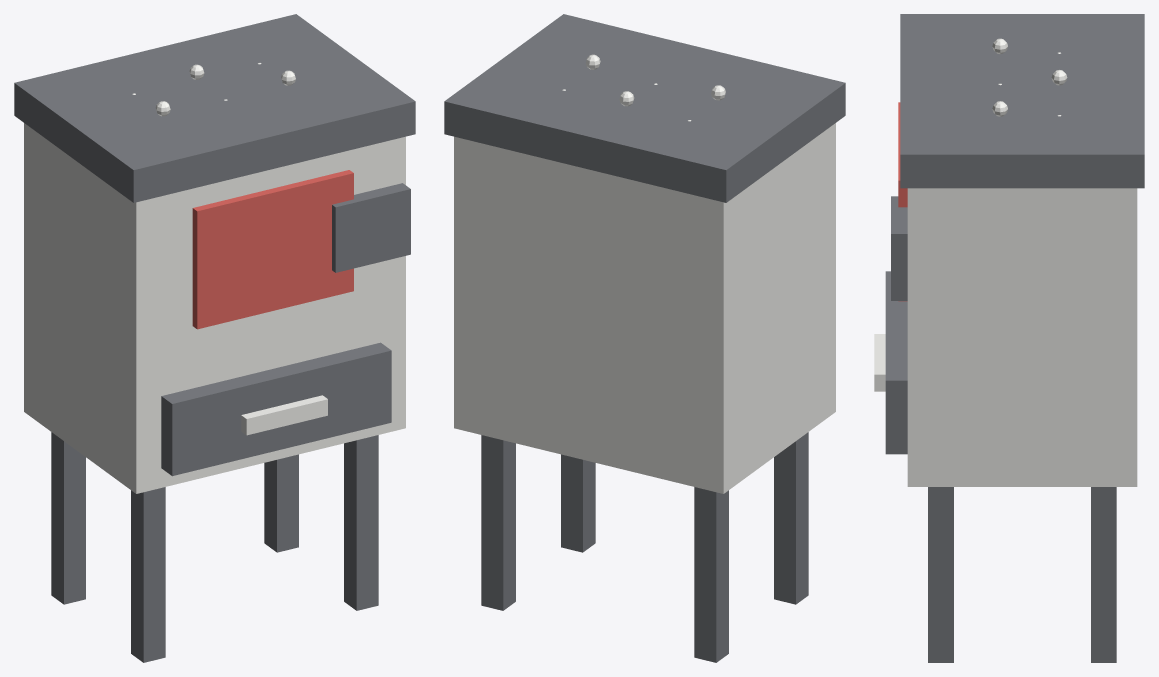
File: golf-course-and-clubhouse-range-ball-dispenser-a587ff38__33500.glb
3 renders of one model, left to right at view 1: azimuth 30°, elevation 25°; view 2: azimuth 150°, elevation 25°; view 3: azimuth 270°, elevation 25°, orthographic. The views are drawn at different scales.
Parts seen in each view (by area): view 1: range-ball-dispenser, drawer/charcoal, drawer/white; view 2: range-ball-dispenser; view 3: range-ball-dispenser, drawer/charcoal, drawer/white.
Part boxes in pixels (x1=…): range-ball-dispenser: x1=14, y1=14, x2=415, y2=662; drawer/charcoal: x1=161, y1=342, x2=391, y2=476; drawer/white: x1=241, y1=395, x2=327, y2=435; range-ball-dispenser: x1=444, y1=14, x2=845, y2=662; range-ball-dispenser: x1=891, y1=14, x2=1144, y2=662; drawer/charcoal: x1=885, y1=271, x2=907, y2=454; drawer/white: x1=874, y1=334, x2=885, y2=391.
Bounding box in the file's own units: 0.9 × 1.59 × 0.73.
